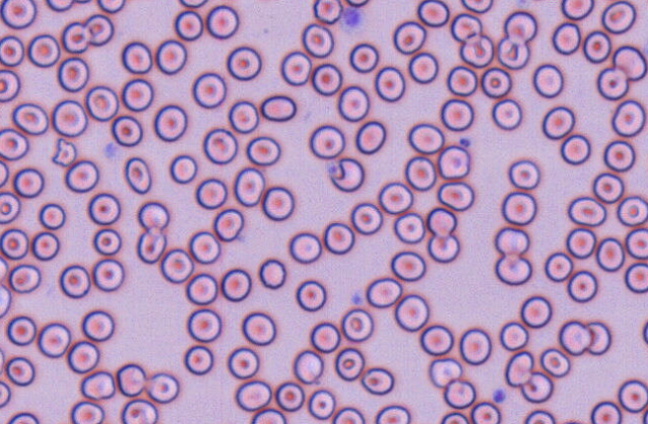PLT: (341, 8, 364, 33), (104, 142, 119, 160), (457, 135, 474, 149), (492, 387, 506, 403), (350, 293, 365, 307)
RBC: (51, 99, 88, 137), (202, 127, 238, 164), (394, 293, 429, 331), (611, 99, 646, 137), (612, 45, 647, 81), (309, 124, 345, 159), (153, 104, 187, 141), (192, 71, 226, 108), (233, 167, 265, 206), (226, 45, 261, 80), (85, 85, 119, 121), (501, 191, 537, 225), (337, 85, 370, 122), (459, 327, 491, 365), (160, 248, 194, 283), (459, 33, 494, 67), (241, 311, 276, 345), (37, 322, 71, 357), (186, 308, 221, 342), (601, 0, 636, 34), (261, 185, 294, 221), (12, 102, 48, 135), (407, 122, 444, 154), (365, 276, 402, 308), (494, 254, 532, 285), (234, 380, 272, 411), (567, 196, 606, 226), (503, 10, 537, 44), (66, 339, 100, 373), (392, 20, 426, 54), (541, 105, 575, 139), (558, 320, 591, 355), (378, 181, 413, 214), (64, 159, 99, 192), (341, 307, 374, 342), (437, 144, 470, 179), (206, 4, 239, 39), (404, 155, 436, 191), (57, 56, 89, 92), (374, 65, 405, 102), (301, 23, 334, 57), (58, 264, 91, 298), (596, 66, 629, 100), (440, 98, 474, 131), (188, 230, 221, 264), (27, 33, 60, 67), (292, 349, 324, 384), (155, 39, 187, 74), (280, 50, 311, 86), (390, 250, 426, 281), (504, 350, 534, 387), (437, 181, 474, 211), (185, 272, 218, 305), (322, 221, 355, 254), (87, 192, 120, 225), (288, 231, 322, 263), (246, 135, 281, 166), (532, 63, 563, 98), (124, 156, 152, 194), (520, 371, 553, 403), (227, 346, 259, 379), (497, 36, 529, 69), (520, 295, 552, 328), (92, 258, 124, 291), (350, 202, 383, 234), (121, 78, 153, 111), (81, 309, 114, 341), (603, 139, 635, 172), (419, 324, 453, 355), (145, 372, 179, 403), (355, 120, 386, 154), (494, 226, 529, 256), (80, 370, 115, 400), (617, 378, 647, 413), (595, 237, 625, 272), (0, 0, 36, 29), (195, 177, 227, 209), (110, 114, 142, 146), (220, 268, 251, 301), (83, 13, 114, 46), (443, 378, 476, 409), (121, 41, 152, 74), (311, 62, 342, 95), (213, 208, 244, 241), (228, 100, 259, 133), (136, 229, 166, 263), (116, 363, 146, 397), (334, 347, 364, 381), (551, 21, 581, 55), (260, 94, 296, 122), (393, 212, 425, 243), (565, 227, 596, 259), (295, 279, 326, 311), (480, 66, 511, 98), (560, 133, 591, 165), (592, 172, 624, 203), (491, 98, 522, 130), (567, 269, 597, 302), (8, 263, 41, 293), (360, 366, 394, 395), (426, 206, 457, 237), (348, 42, 379, 73), (446, 65, 477, 96), (616, 195, 647, 226), (450, 12, 482, 42), (310, 321, 340, 353), (408, 51, 438, 83), (508, 159, 540, 189), (0, 127, 29, 160), (582, 30, 611, 63), (120, 398, 158, 423), (539, 347, 570, 377), (5, 355, 35, 386), (274, 381, 305, 411), (183, 344, 213, 375), (13, 167, 44, 197), (61, 21, 90, 53), (137, 201, 169, 230), (6, 315, 36, 345), (544, 251, 573, 282), (0, 228, 29, 259), (258, 257, 286, 289), (307, 388, 335, 420), (416, 0, 449, 27), (499, 321, 528, 351), (174, 10, 203, 40), (169, 154, 197, 183), (31, 231, 59, 260), (92, 227, 121, 255), (70, 400, 104, 423), (0, 35, 24, 66), (38, 202, 65, 229), (312, 0, 342, 24), (590, 400, 621, 423), (624, 262, 647, 293), (625, 227, 647, 259), (374, 404, 410, 423), (470, 401, 501, 423), (560, 0, 594, 20), (0, 68, 20, 102), (0, 191, 21, 223), (331, 406, 365, 423), (250, 407, 286, 423), (523, 409, 555, 423), (460, 0, 493, 13), (6, 411, 39, 423), (97, 0, 125, 13), (0, 284, 11, 317), (440, 411, 469, 423), (45, 0, 74, 11), (0, 380, 11, 407), (0, 159, 9, 187), (178, 0, 208, 8), (0, 256, 8, 283), (345, 0, 369, 7), (642, 319, 648, 345), (0, 347, 5, 376), (560, 418, 587, 423), (642, 408, 648, 423), (74, 0, 92, 3)
Schistocyte: (330, 158, 365, 192), (428, 357, 464, 388), (428, 236, 461, 264), (586, 321, 612, 355), (52, 138, 76, 167)
